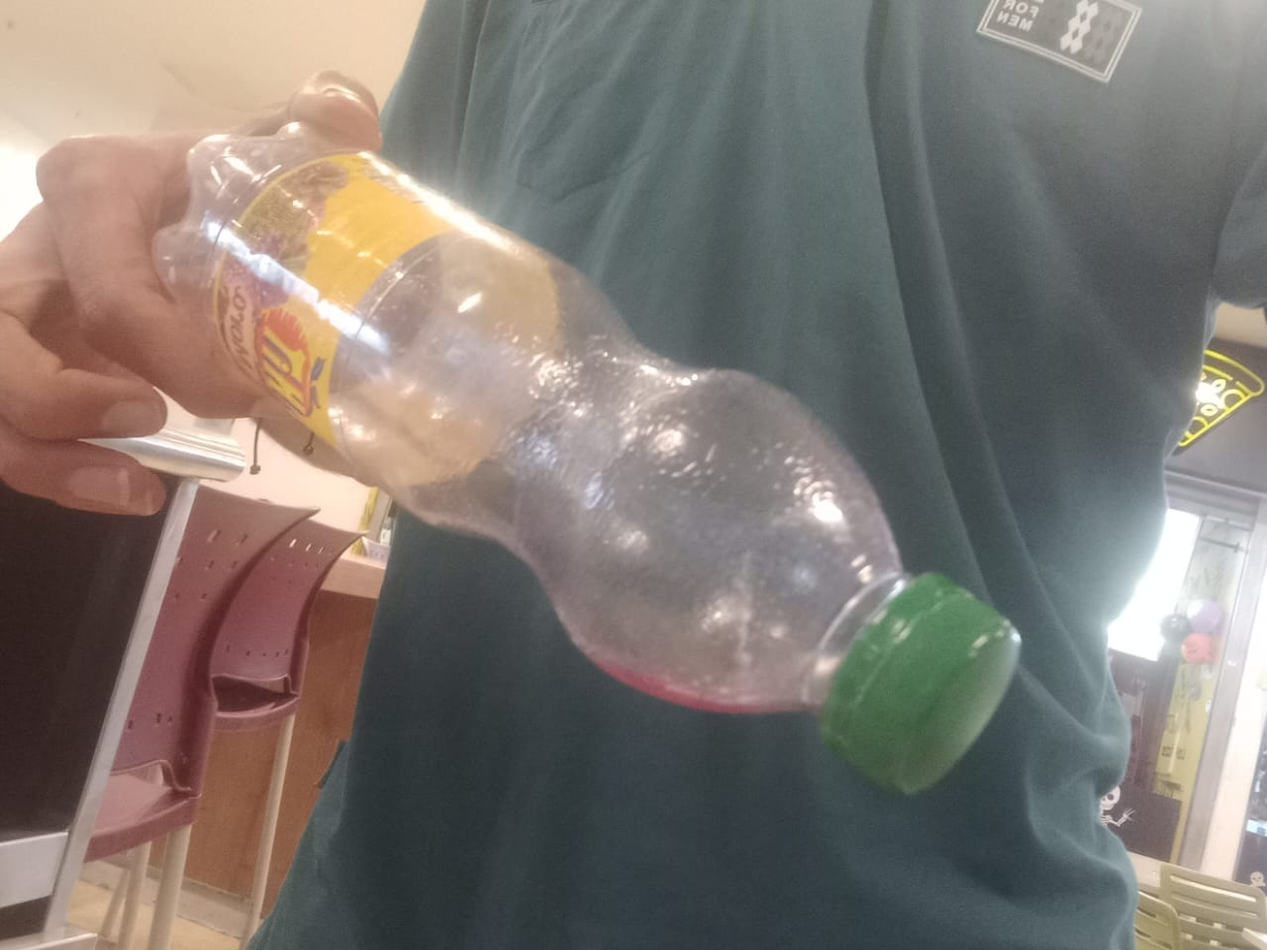Plastico: (155, 118, 1022, 798)
